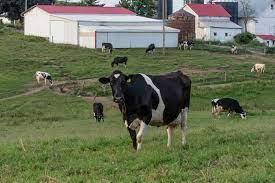cow: (100, 71, 192, 152), (211, 98, 247, 118), (92, 103, 105, 122), (36, 72, 55, 84), (250, 63, 266, 74), (178, 40, 193, 51), (111, 58, 129, 67), (101, 43, 114, 55), (145, 44, 156, 55), (229, 46, 239, 54)
